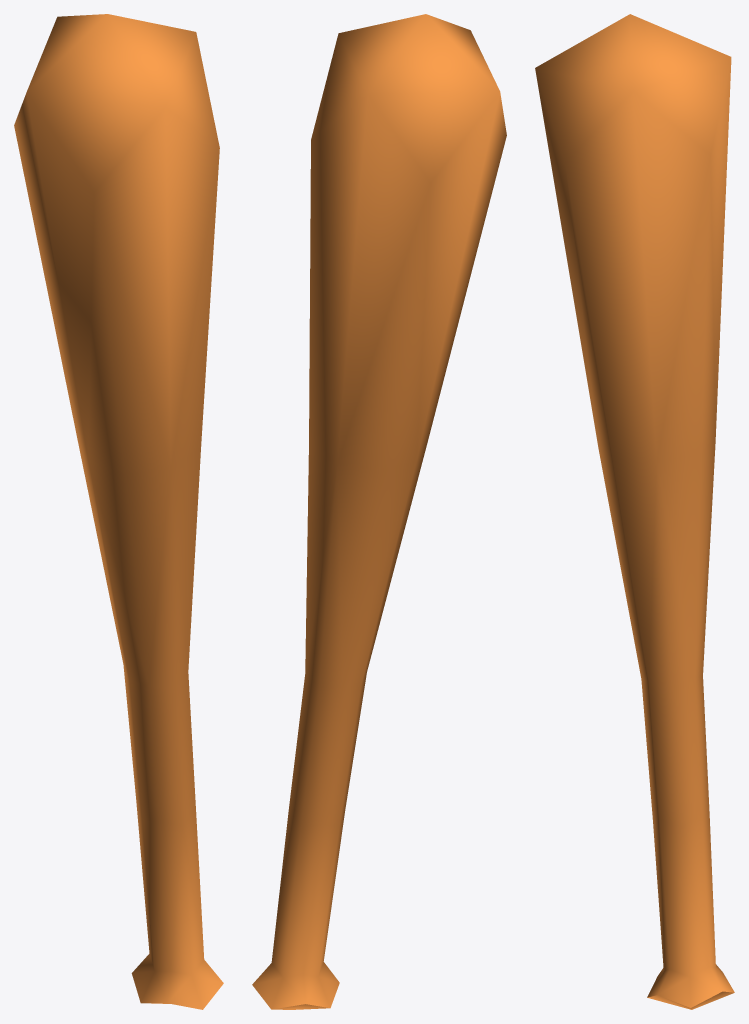
The model's file is AF_M_Prop_10.FBX.
The picture shows the model from 3 angles, left to right: view 1: azimuth 30°, elevation 25°; view 2: azimuth 150°, elevation 25°; view 3: azimuth 270°, elevation 25°; orthographic projection. The views are drawn at different scales.
Visible parts, largest first — view 1: AF_M_Prop_10; view 2: AF_M_Prop_10; view 3: AF_M_Prop_10.
Part boxes in pixels (x1,y1,x2,y2): AF_M_Prop_10: (14,14,223,1009); AF_M_Prop_10: (252,14,506,1009); AF_M_Prop_10: (535,14,734,1009).
Bounding box in the file's own units: 121 × 544 × 104.
1 material, 1 textured.
